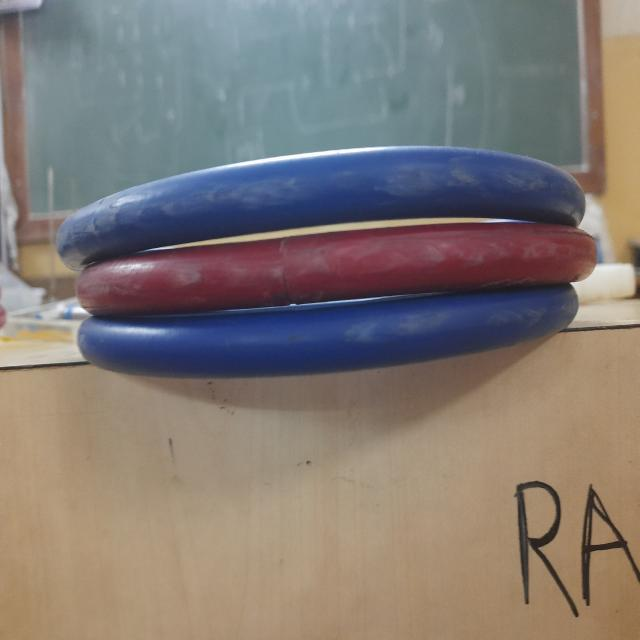daire: (58, 149, 582, 219), (76, 309, 534, 377), (83, 247, 557, 288)
